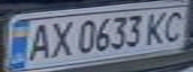0: (75, 17, 96, 54)
3: (124, 11, 148, 48), (109, 13, 130, 51)
6: (93, 16, 115, 53)
A: (21, 20, 54, 62)
C: (157, 7, 190, 44)
K: (142, 9, 172, 46)
X: (45, 18, 75, 58)
